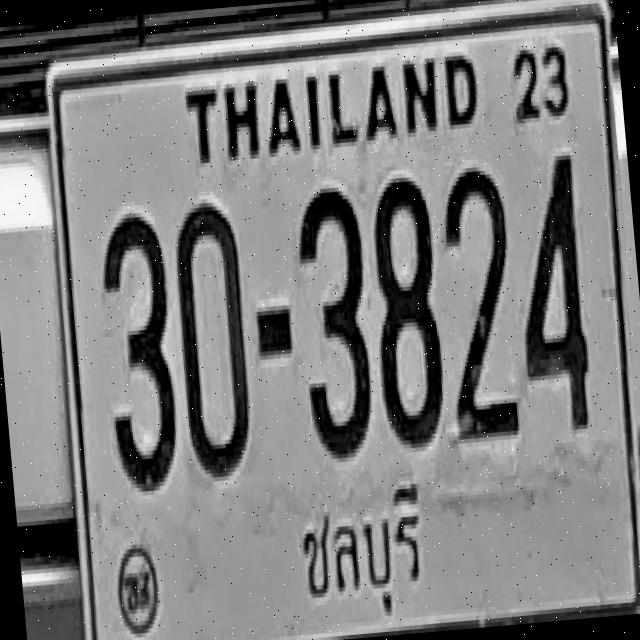0: (168, 196, 256, 478)
2: (434, 163, 524, 441)
3: (94, 209, 182, 491), (292, 183, 378, 458)
4: (506, 149, 594, 431)
8: (364, 174, 448, 448)
Chonburi: (284, 470, 440, 629)
